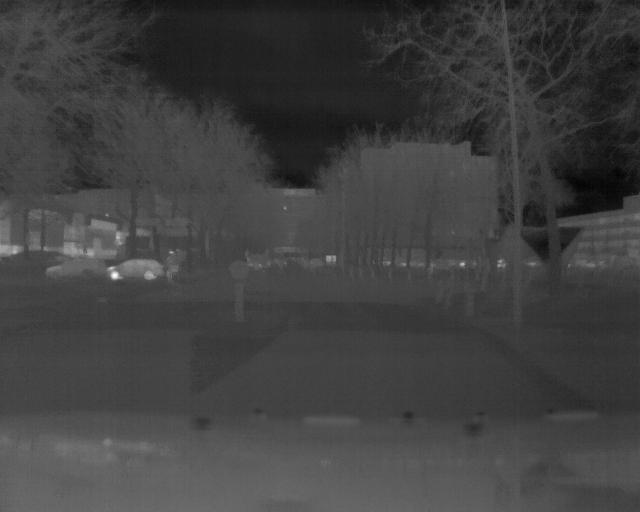car: (41, 255, 107, 278), (106, 258, 166, 282)
person: (165, 248, 180, 280)
